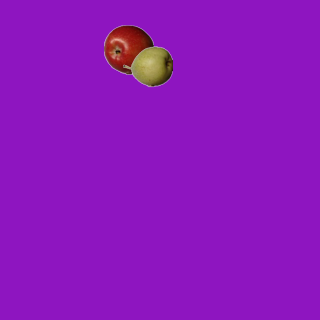Apple Braeburn: (103, 24, 153, 74)
Pear: (122, 41, 172, 91)
